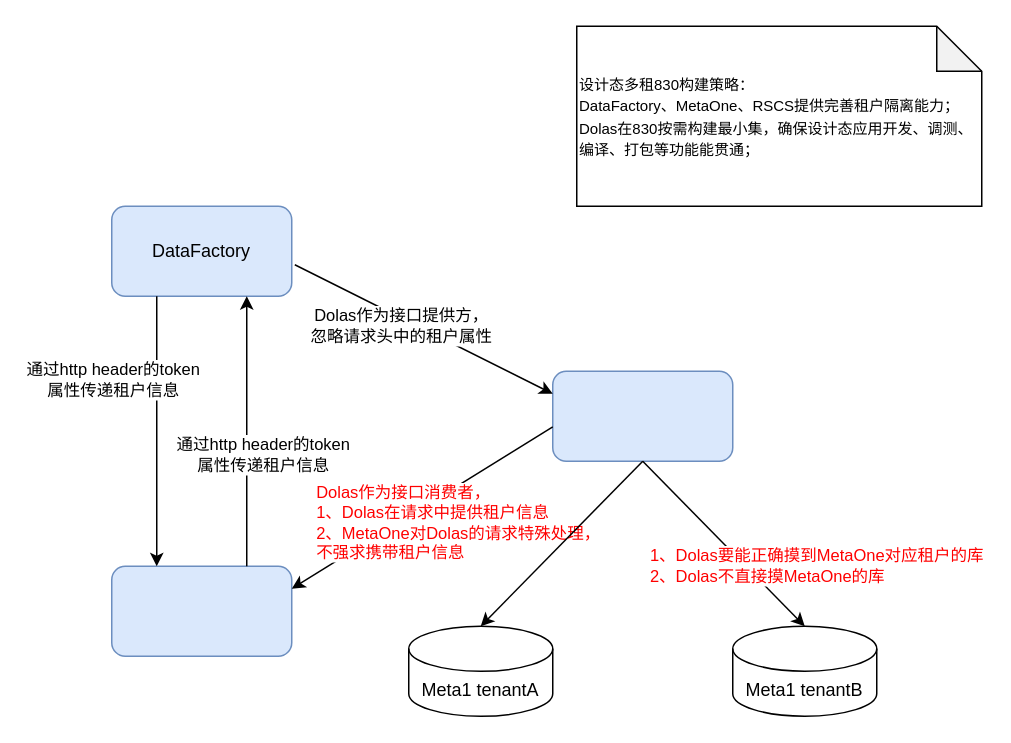
Some shapes in this 1011 by 743 pixel diagram are drawn without their labels. The centre of each missing label's shape, as x and y in pixels:
Dolas: point (642, 415)
Meta1: point (201, 610)
